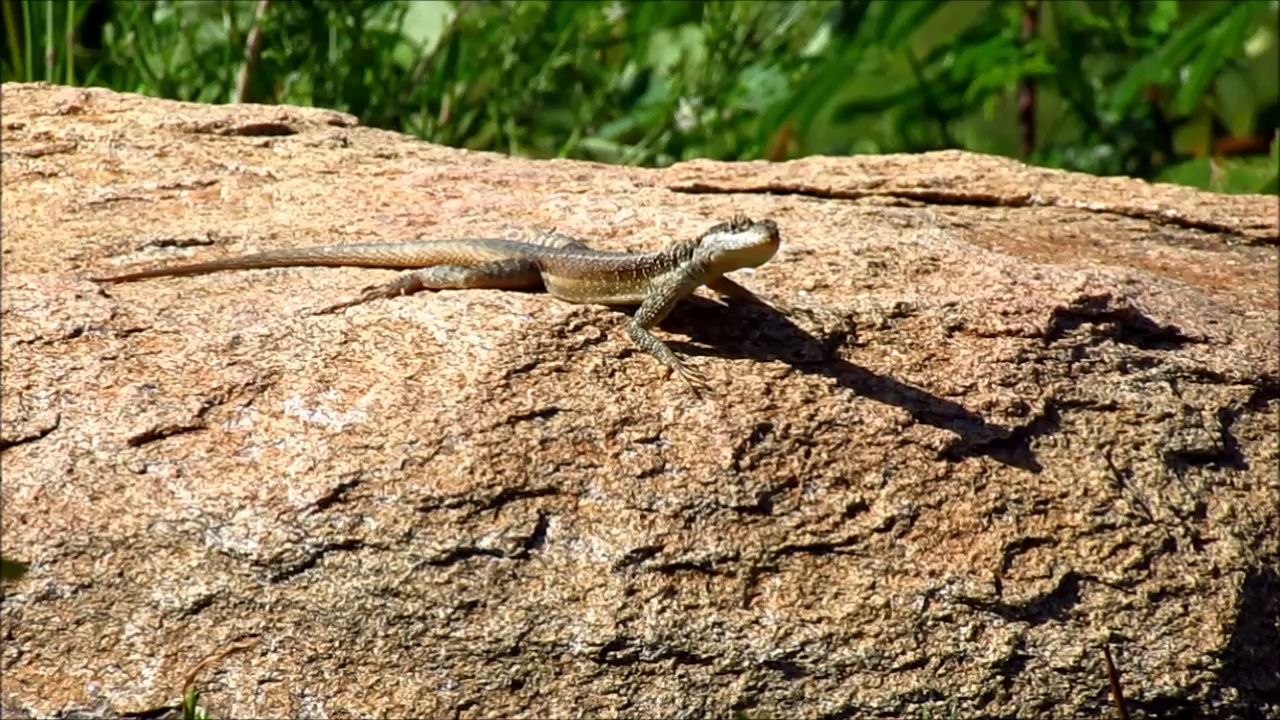body: (87, 232, 713, 399)
head: (699, 213, 780, 274)
